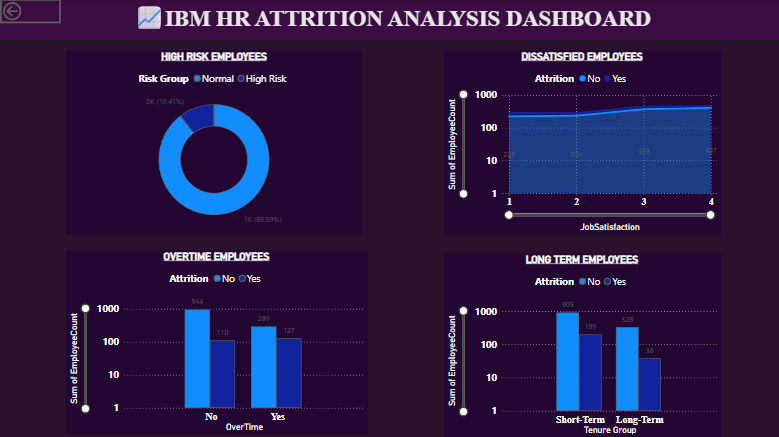

Layout of this report page (visuals, bound fields, positions):
{"tool":"powerbi","page":{"name":"Page 3","canvas":[1280,720],"ordinal":2},"visuals":[{"type":"textbox","box":[0,0,1280,67.2],"z":0},{"type":"actionButton","box":[0,0,100,40],"z":1000},{"type":"donutChart","title":"HIGH RISK EMPLOYEES","fields":{"Y":["Sum(IBM HR xls.EmployeeCount)"],"Category":["IBM HR xls.Risk Group"]},"box":[108.4,83.8,486.4,302.3],"z":2000},{"type":"clusteredColumnChart","title":"OVERTIME EMPLOYEES","fields":{"Category":["IBM HR xls.OverTime"],"Y":["Sum(IBM HR xls.EmployeeCount)"],"Series":["IBM HR xls.Attrition"]},"box":[108.4,412.4,494.6,302.3],"z":3000},{"type":"clusteredColumnChart","title":"LONG TERM EMPLOYEES","fields":{"Category":["IBM HR xls.Tenure Group"],"Y":["Sum(IBM HR xls.EmployeeCount)"],"Series":["IBM HR xls.Attrition"]},"box":[729.6,417.4,453.5,302.3],"z":4000},{"type":"stackedAreaChart","title":"DISSATISFIED EMPLOYEES","fields":{"Category":["IBM HR xls.JobSatisfaction"],"Y":["Sum(IBM HR xls.EmployeeCount)"],"Series":["IBM HR xls.Attrition"]},"box":[729.6,83.8,453.5,302.3],"z":5000},{"type":"actionButton","box":[0,0,100,40],"z":7000}]}

Visuals, with their boxes in screenshot pixels (x1, y1, x2, y2), scaled from the page's 1280x720 canvas onto the 779x437 screenshot:
textbox: rect(0, 0, 778, 41)
actionButton: rect(0, 0, 61, 24)
"HIGH RISK EMPLOYEES" donutChart: rect(66, 51, 362, 234)
"OVERTIME EMPLOYEES" clusteredColumnChart: rect(66, 250, 367, 434)
"LONG TERM EMPLOYEES" clusteredColumnChart: rect(444, 253, 720, 436)
"DISSATISFIED EMPLOYEES" stackedAreaChart: rect(444, 51, 720, 234)
actionButton: rect(0, 0, 61, 24)
